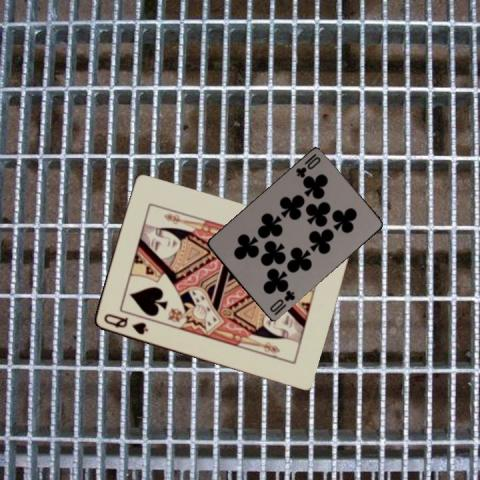10c: (293, 151, 322, 180), (266, 287, 296, 314)
Qs: (100, 310, 149, 336)
